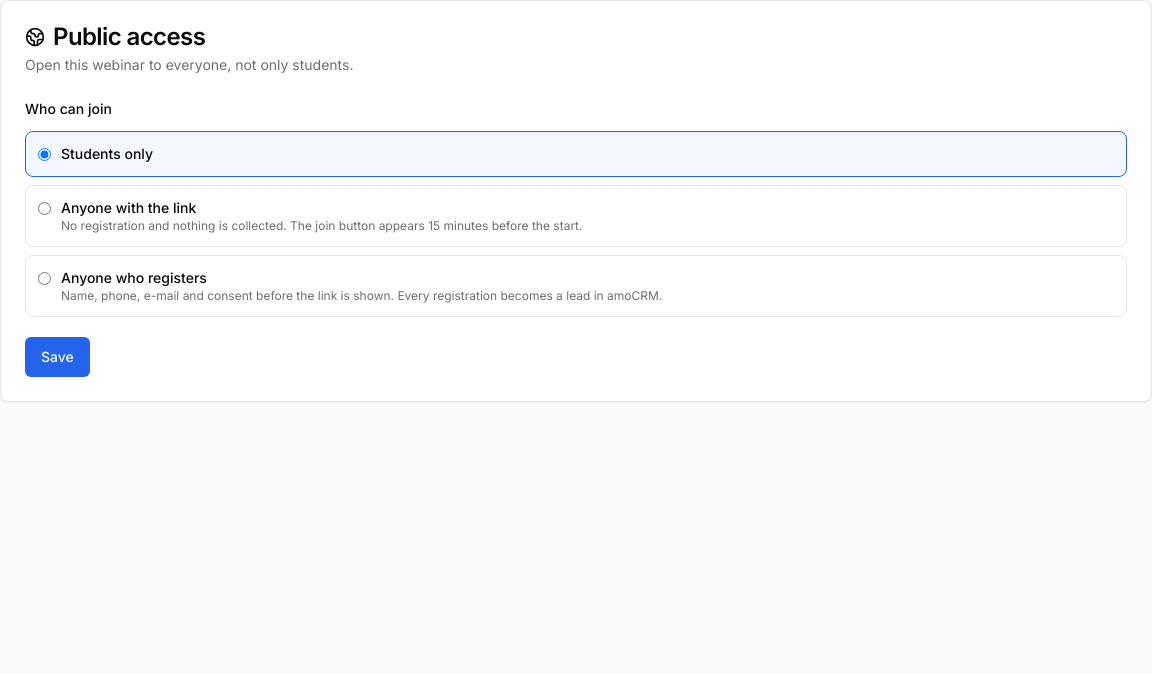
Scenario: a webinar’s public access card › blocks Save and names the host when they have no Workspace account — the server would refuse
Click the 2nd radio button at (44, 208), box [38, 202, 51, 215]
(page scrolled)
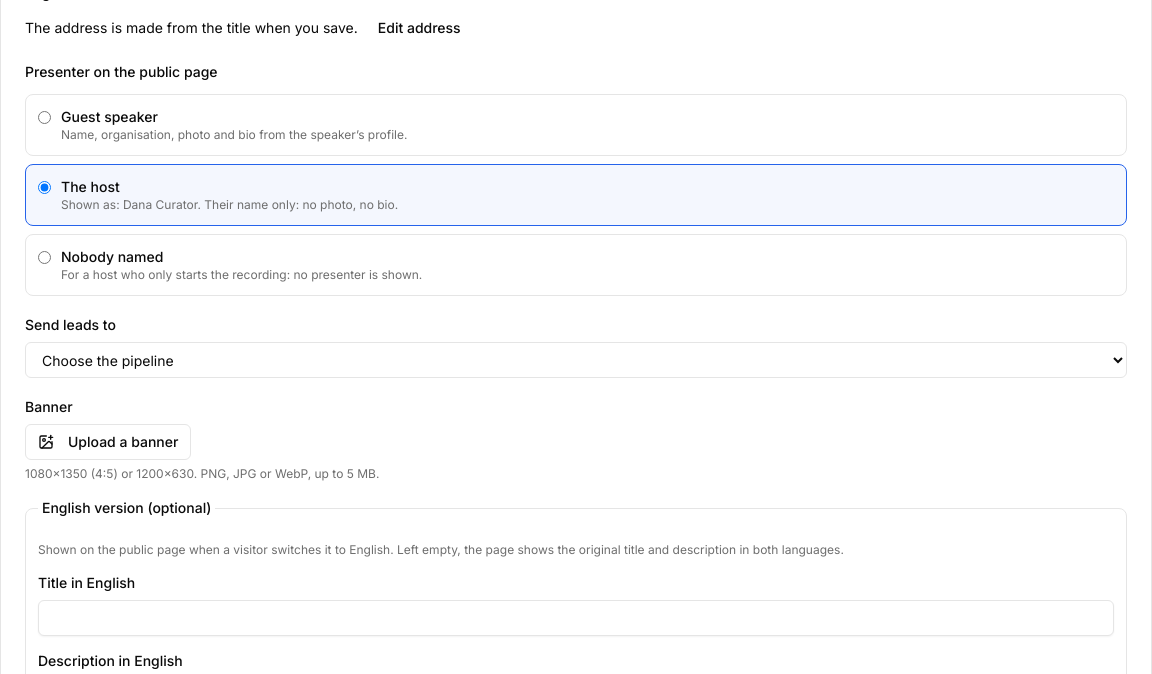
Select "SAT" in the dropdown with id "ow-pipeline" at (576, 360), box [25, 342, 1127, 378]
(page scrolled)
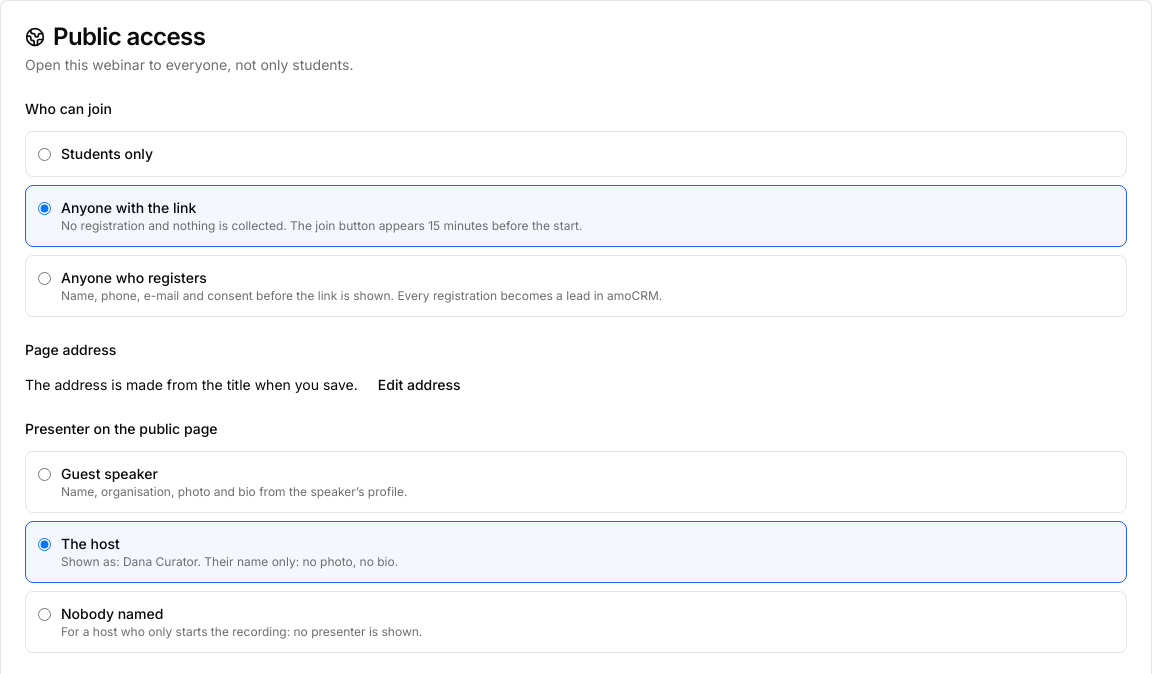
Click the radio button labelled "Students only" at (44, 154), box [38, 148, 51, 161]
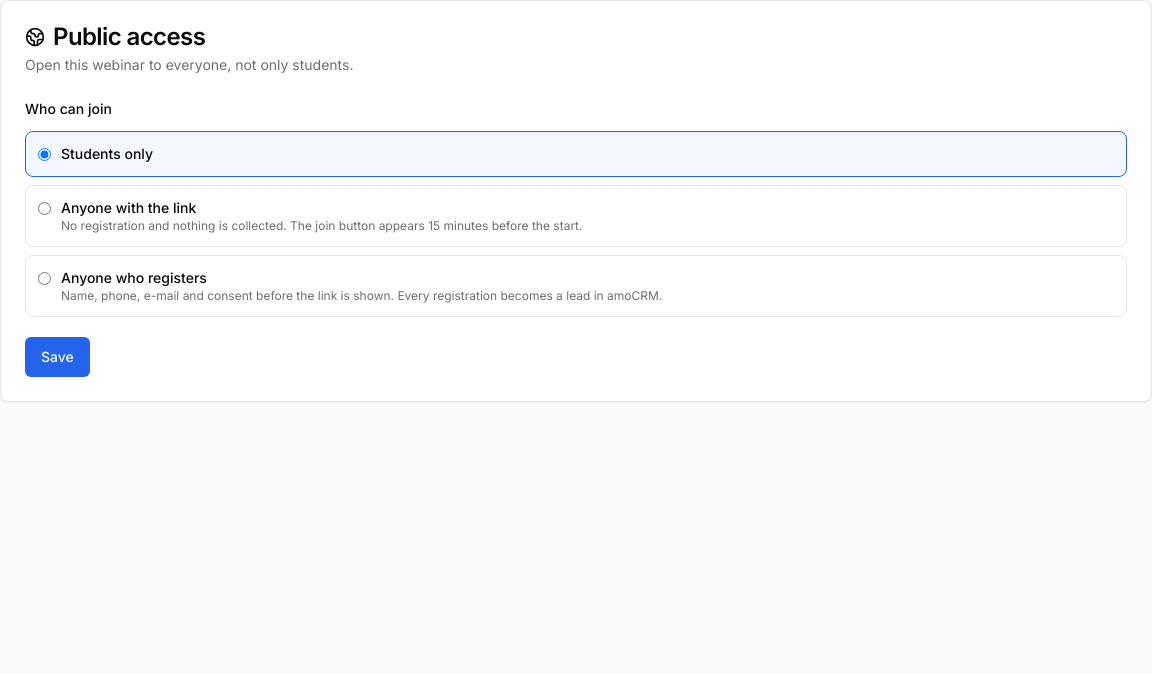
Check: the button "Save" is enabled, box [25, 337, 90, 377]
